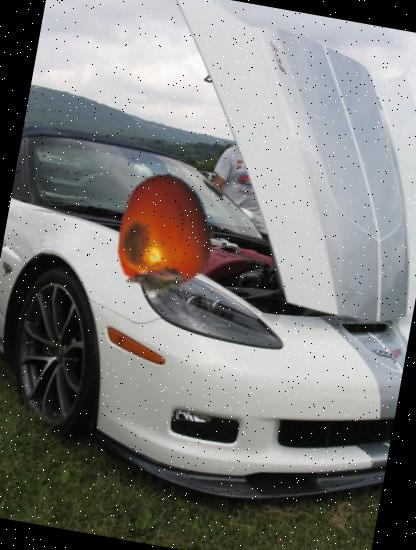Kaki: (94, 162, 240, 308)
